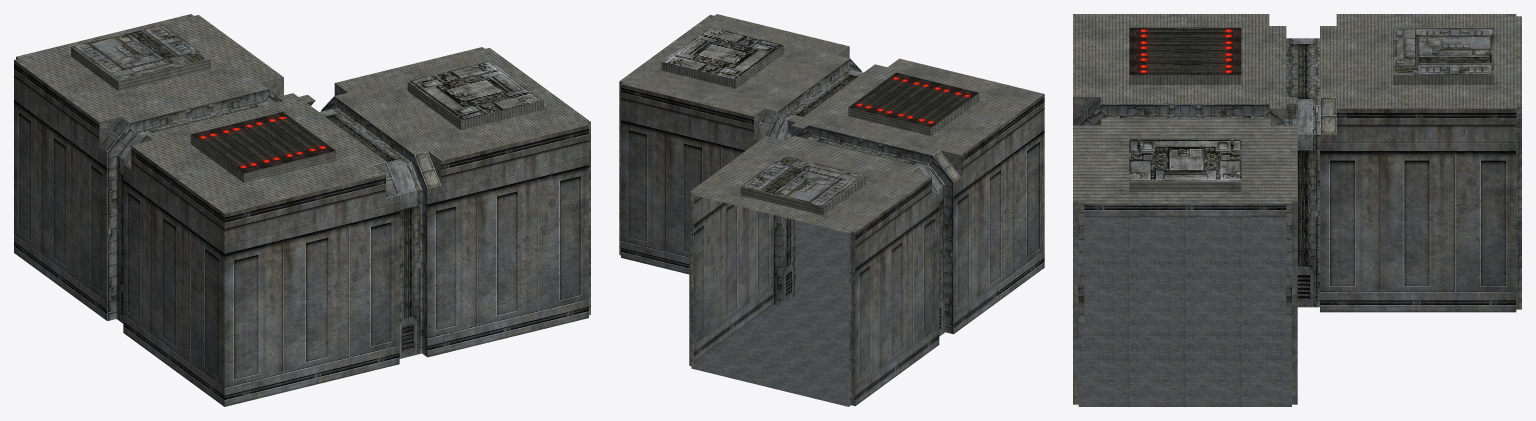
The model's file is poi_all_impl_bunker_abandoned_s01_r30_ramptop_mesh.fbx.
The picture shows the model from 3 angles, left to right: view 1: azimuth 30°, elevation 25°; view 2: azimuth 150°, elevation 25°; view 3: azimuth 270°, elevation 25°; orthographic projection. The views are drawn at different scales.
Visible parts, largest first — view 1: mesh_node; view 2: mesh_node; view 3: mesh_node.
Boxes of the visible parts, x1=… form: mesh_node: x1=14, y1=14, x2=590, y2=406; mesh_node: x1=619, y1=14, x2=1044, y2=406; mesh_node: x1=1073, y1=14, x2=1521, y2=406.
Bounding box in the file's own units: 8 × 4.2 × 8.
